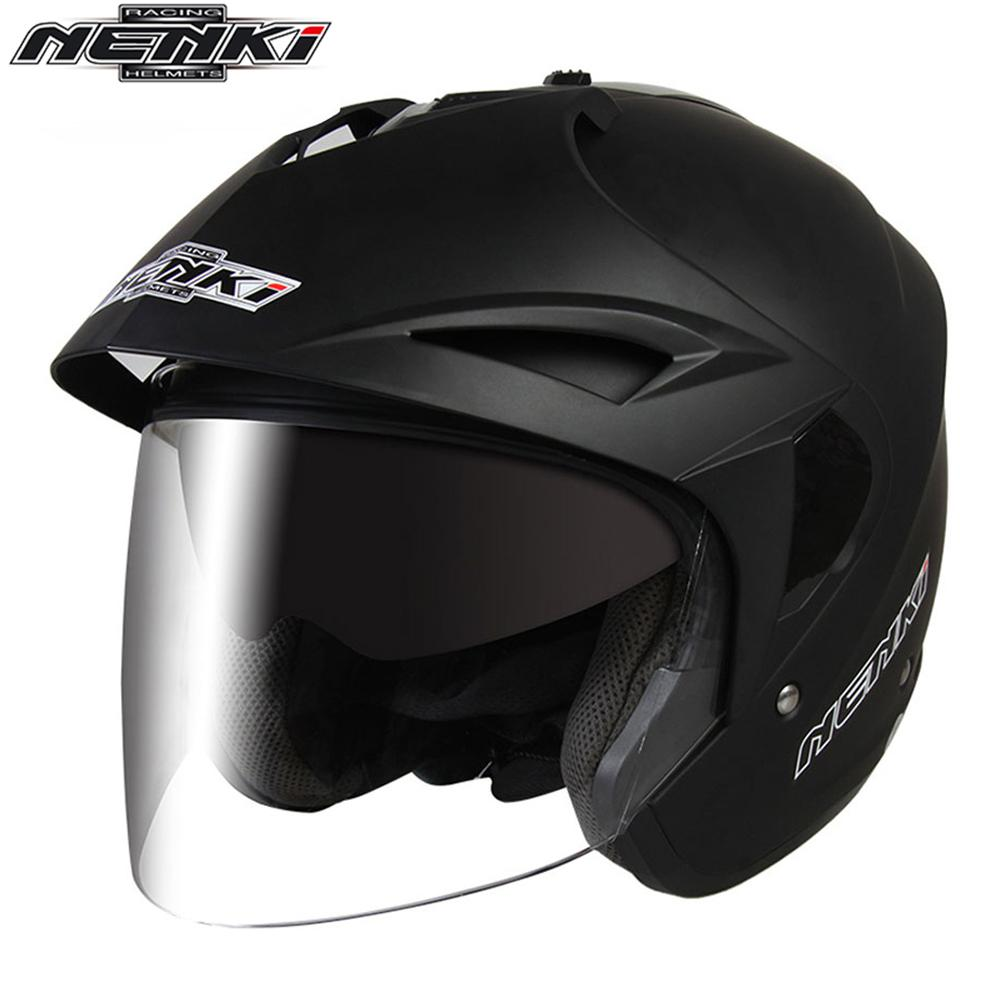with_helmet: (29, 65, 962, 944)
